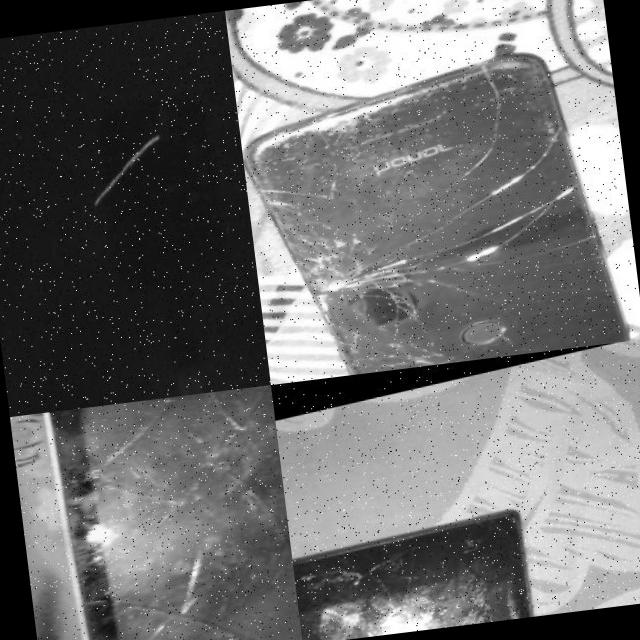scratch: (68, 115, 170, 217)
screen crack: (232, 26, 640, 383), (50, 383, 302, 640), (290, 519, 468, 600), (472, 559, 544, 623)
